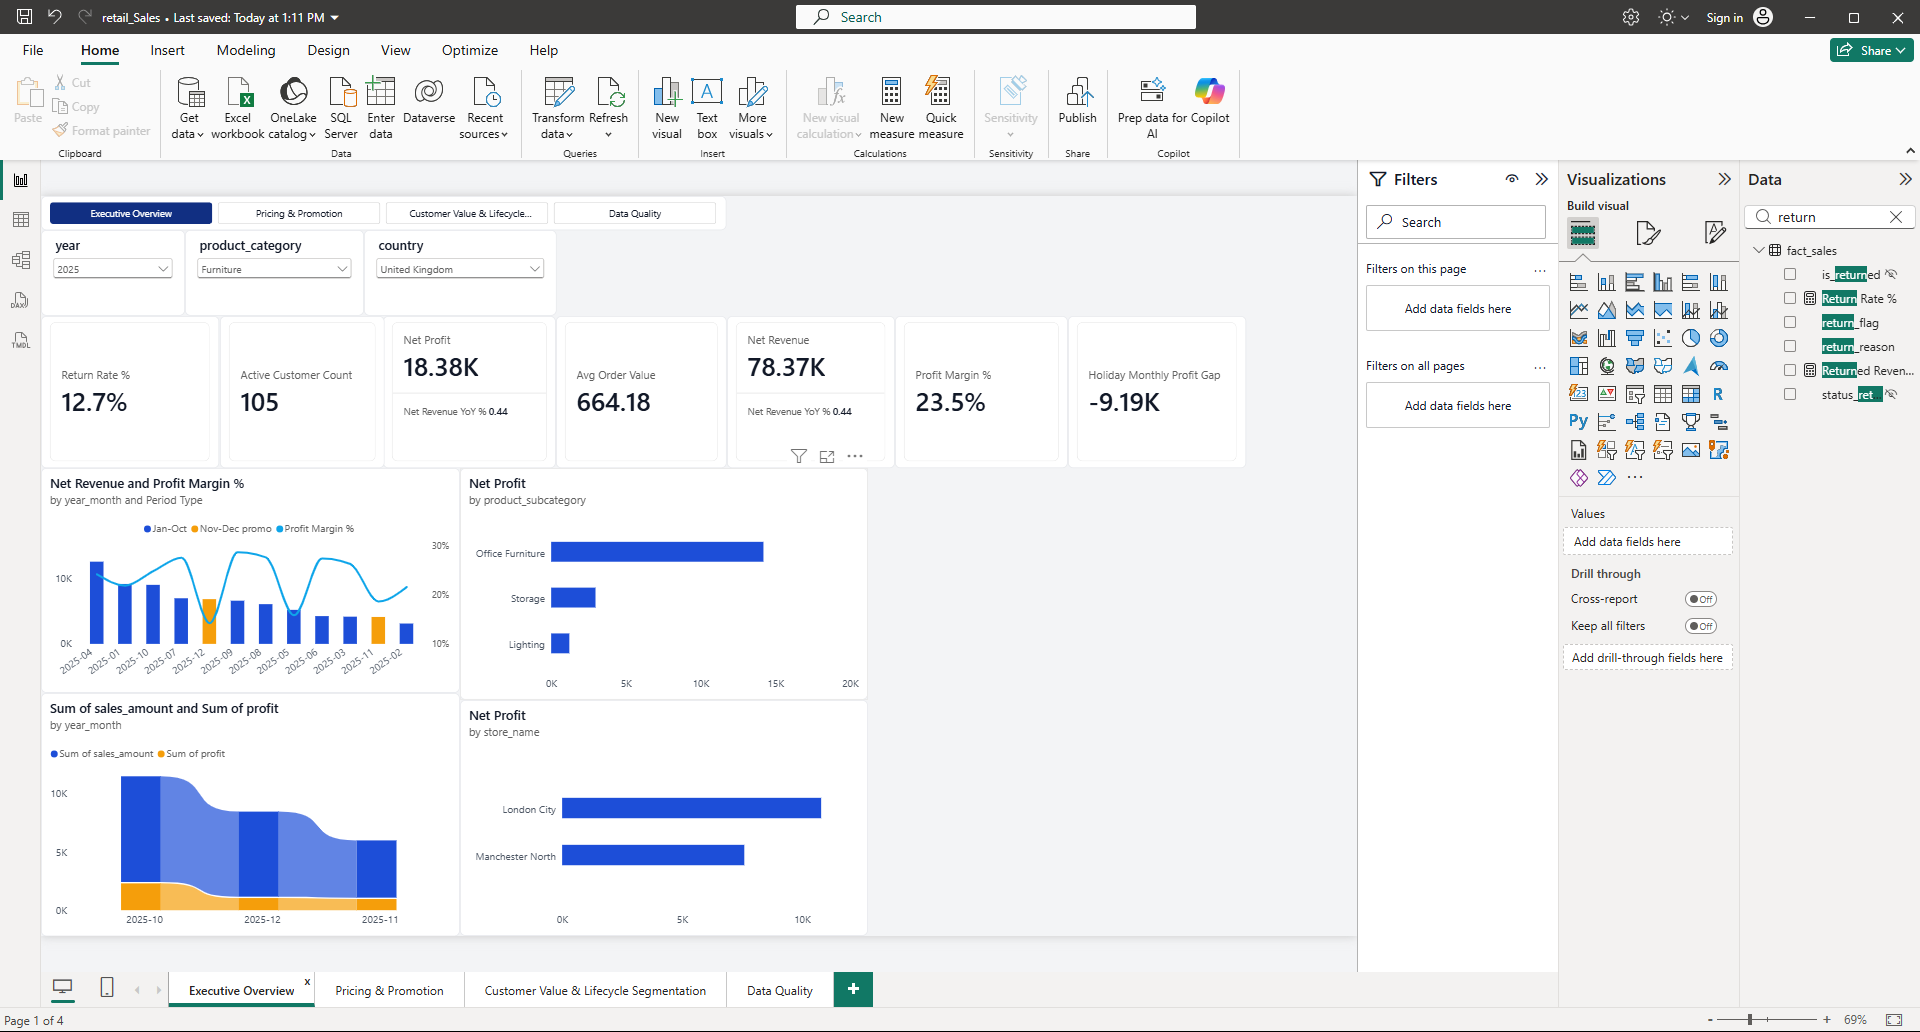

Layout of this report page (visuals, bound fields, positions):
{"tool":"powerbi","page":{"name":"Executive Overview","canvas":[1920,1080],"ordinal":0},"visuals":[{"type":"lineStackedColumnComboChart","title":"Monthly Sales VS Profit Margin","fields":{"Category":["retail dim_date.year_month"],"Series":["dim_date.Period Type"],"Y":["fact_sales.Net Revenue"],"Y2":["fact_sales.Profit Margin %"]},"box":[0,396.8,611.3,328.3],"z":0},{"type":"ribbonChart","title":"Sales Vs Profit","fields":{"Category":["retail dim_date.year_month"],"Y":["Sum(retail fact_sales.sales_amount)","Sum(retail fact_sales.profit)"]},"box":[0,725.1,611.3,354.5],"z":1000},{"type":"cardVisual","fields":{"Data":["retail data_quality_log._Holiday Monthly Profit Gap"]},"box":[1498.4,175.1,259.6,221.9],"z":2000},{"type":"pageNavigator","box":[0,0,1920,87.5],"z":3000},{"type":"slicer","fields":{"Values":["dim_date.year"]},"box":[1206.6,795.1,306.4,191.1],"z":4000},{"type":"slicer","fields":{"Values":["dim_product.product_category"]},"box":[1206.6,617.1,306.4,178],"z":5000},{"type":"slicer","fields":{"Values":["dim_store.country"]},"box":[1206.6,396.8,306.4,220.3],"z":6000},{"type":"cardVisual","fields":{"Data":["fact_sales.Net Revenue"]},"box":[1000.9,175.1,244.5,221.9],"z":7000},{"type":"cardVisual","fields":{"Data":["fact_sales.Net Profit"]},"box":[499,175.1,252.1,221.9],"z":8000},{"type":"cardVisual","fields":{"Data":["fact_sales.Profit Margin %"]},"box":[1246,175.1,252.1,221.9],"z":9000},{"type":"cardVisual","fields":{"Data":["fact_sales.Avg Order Value"]},"box":[751.4,175.1,249.1,221.9],"z":10000},{"type":"cardVisual","fields":{"Data":["fact_sales.Return Rate %"]},"box":[0,175.1,259.6,221.9],"z":11000},{"type":"cardVisual","fields":{"Data":["fact_sales.Active Customer Count"]},"box":[261.2,175.1,240,221.9],"z":12000},{"type":"barChart","title":"Profit by Products","fields":{"Category":["dim_product.product_subcategory"],"Y":["fact_sales.Net Profit"]},"box":[611.3,396.8,595.3,338.5],"z":13000},{"type":"barChart","title":"Profit by Stores","fields":{"Category":["dim_store.store_name"],"Y":["fact_sales.Net Profit"]},"box":[611.3,735.3,595.3,344.3],"z":14000}]}

Visuals, with their boxes on the page's 1920x1080 design canvas (x1, y1, x2, y2). These are canvas units, not pixel positions in the 1920x1032 screenshot, which may show the page scaled, cropped or inside an application window:
"Monthly Sales VS Profit Margin" lineStackedColumnComboChart: (x1=0, y1=397, x2=611, y2=725)
"Sales Vs Profit" ribbonChart: (x1=0, y1=725, x2=611, y2=1080)
cardVisual - retail data_quality_log._Holiday Monthly Profit Gap: (x1=1498, y1=175, x2=1758, y2=397)
pageNavigator: (x1=0, y1=0, x2=1920, y2=88)
slicer - dim_date.year: (x1=1207, y1=795, x2=1513, y2=986)
slicer - dim_product.product_category: (x1=1207, y1=617, x2=1513, y2=795)
slicer - dim_store.country: (x1=1207, y1=397, x2=1513, y2=617)
cardVisual - fact_sales.Net Revenue: (x1=1001, y1=175, x2=1245, y2=397)
cardVisual - fact_sales.Net Profit: (x1=499, y1=175, x2=751, y2=397)
cardVisual - fact_sales.Profit Margin %: (x1=1246, y1=175, x2=1498, y2=397)
cardVisual - fact_sales.Avg Order Value: (x1=751, y1=175, x2=1000, y2=397)
cardVisual - fact_sales.Return Rate %: (x1=0, y1=175, x2=260, y2=397)
cardVisual - fact_sales.Active Customer Count: (x1=261, y1=175, x2=501, y2=397)
"Profit by Products" barChart: (x1=611, y1=397, x2=1207, y2=735)
"Profit by Stores" barChart: (x1=611, y1=735, x2=1207, y2=1080)
